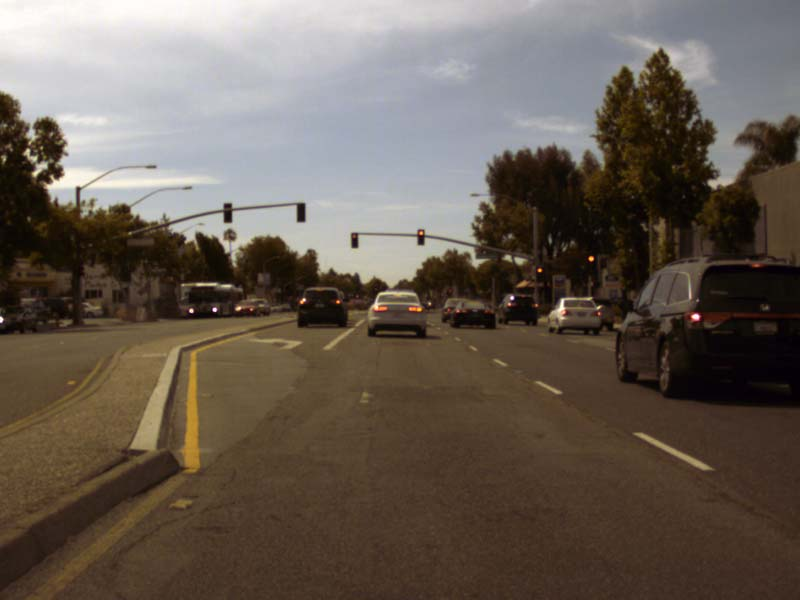Red: (586, 252, 595, 270), (417, 227, 425, 245), (350, 232, 358, 247), (536, 265, 543, 280), (447, 289, 452, 296)
